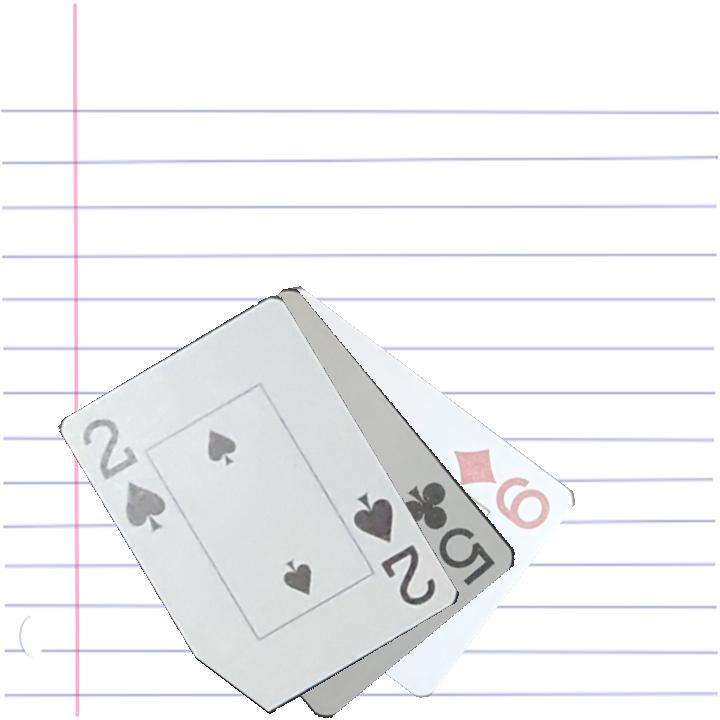2s: (79, 413, 170, 535), (350, 489, 440, 609)
5c: (398, 477, 499, 589)
9d: (450, 444, 554, 533)
